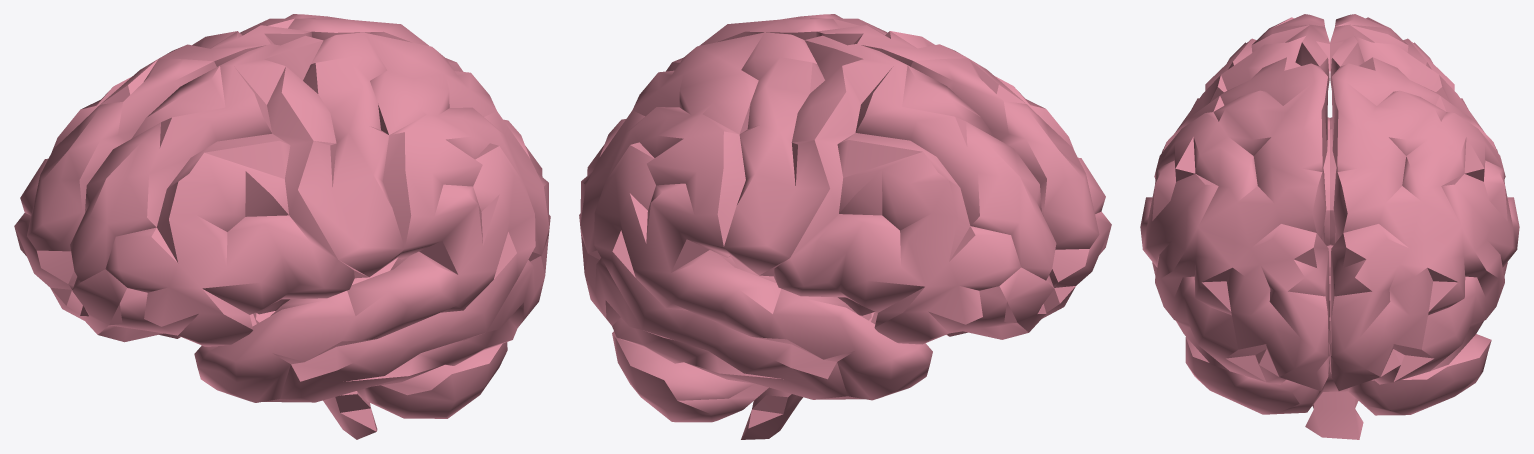
The model's file is the_brain.glb.
3 views of the same model, side by side, from view 1: azimuth 30°, elevation 25°; view 2: azimuth 150°, elevation 25°; view 3: azimuth 270°, elevation 25° (orthographic). The views are drawn at different scales.
Parts seen in each view (by area): view 1: Object_2; view 2: Object_2; view 3: Object_2.
Part boxes in pixels (x1,y1,x2,y2): Object_2: [14, 14, 550, 439]; Object_2: [579, 14, 1111, 439]; Object_2: [1140, 14, 1519, 439].
Bounding box in the file's own units: 214 × 180 × 172.
